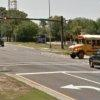Car: (86, 46, 100, 71)
